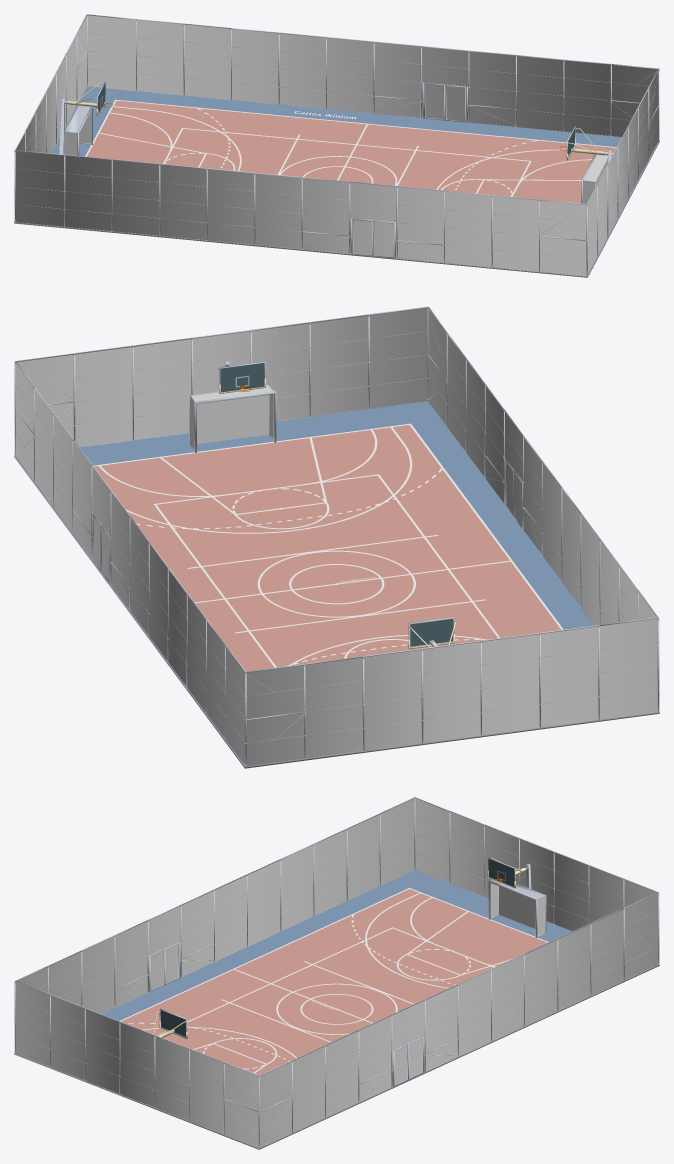
The model's file is basketball.glb.
The picture shows the model from 3 angles, top to bottom: view 1: azimuth 30°, elevation 25°; view 2: azimuth 150°, elevation 25°; view 3: azimuth 270°, elevation 25°; orthographic projection. The views are drawn at different scales.
Visible parts, largest first — view 1: Obj3d66-9489959-358-341, Obj3d66-9489959-354-768, Obj3d66-9489959-357-554, Obj3d66-9489959-355-117, Obj3d66-9489959-350-744, Obj3d66-9489959-356-299, Obj3d66-9489959-353-294, Obj3d66-9489959-351-909, Obj3d66-9489959-352-830, Obj3d66-9489959-359-202; view 2: Obj3d66-9489959-358-341, Obj3d66-9489959-355-117, Obj3d66-9489959-354-768, Obj3d66-9489959-357-554, Obj3d66-9489959-350-744, Obj3d66-9489959-356-299, Obj3d66-9489959-353-294, Obj3d66-9489959-352-830, Obj3d66-9489959-360-24, Obj3d66-9489959-351-909; view 3: Obj3d66-9489959-358-341, Obj3d66-9489959-355-117, Obj3d66-9489959-357-554, Obj3d66-9489959-354-768, Obj3d66-9489959-356-299, Obj3d66-9489959-350-744, Obj3d66-9489959-353-294, Obj3d66-9489959-352-830, Obj3d66-9489959-351-909, Obj3d66-9489959-360-24.
Boxes of the visible parts, left/top/right/bottom form: Obj3d66-9489959-358-341: left=15, top=15, right=658, bottom=276; Obj3d66-9489959-354-768: left=99, top=100, right=616, bottom=179; Obj3d66-9489959-357-554: left=14, top=14, right=659, bottom=276; Obj3d66-9489959-355-117: left=174, top=129, right=529, bottom=193; Obj3d66-9489959-350-744: left=16, top=86, right=659, bottom=276; Obj3d66-9489959-356-299: left=14, top=133, right=659, bottom=277; Obj3d66-9489959-353-294: left=85, top=99, right=616, bottom=196; Obj3d66-9489959-351-909: left=58, top=81, right=611, bottom=203; Obj3d66-9489959-352-830: left=65, top=111, right=607, bottom=203; Obj3d66-9489959-359-202: left=68, top=83, right=604, bottom=160; Obj3d66-9489959-358-341: left=15, top=308, right=657, bottom=766; Obj3d66-9489959-355-117: left=157, top=475, right=497, bottom=667; Obj3d66-9489959-354-768: left=94, top=425, right=561, bottom=671; Obj3d66-9489959-357-554: left=14, top=306, right=659, bottom=767; Obj3d66-9489959-350-744: left=15, top=402, right=657, bottom=767; Obj3d66-9489959-356-299: left=14, top=438, right=659, bottom=768; Obj3d66-9489959-353-294: left=93, top=423, right=563, bottom=667; Obj3d66-9489959-352-830: left=190, top=385, right=273, bottom=449; Obj3d66-9489959-360-24: left=220, top=363, right=452, bottom=646; Obj3d66-9489959-351-909: left=189, top=361, right=455, bottom=647; Obj3d66-9489959-358-341: left=15, top=798, right=658, bottom=1147; Obj3d66-9489959-355-117: left=163, top=928, right=493, bottom=1075; Obj3d66-9489959-357-554: left=14, top=797, right=659, bottom=1148; Obj3d66-9489959-354-768: left=121, top=889, right=506, bottom=1035; Obj3d66-9489959-356-299: left=14, top=912, right=659, bottom=1149; Obj3d66-9489959-350-744: left=15, top=870, right=658, bottom=1148; Obj3d66-9489959-353-294: left=119, top=888, right=548, bottom=1073; Obj3d66-9489959-352-830: left=490, top=883, right=545, bottom=936; Obj3d66-9489959-351-909: left=157, top=858, right=546, bottom=1037; Obj3d66-9489959-360-24: left=161, top=859, right=514, bottom=1036.
Size of the model in its own units: 0.6645 by 0.0818 by 0.6492.
